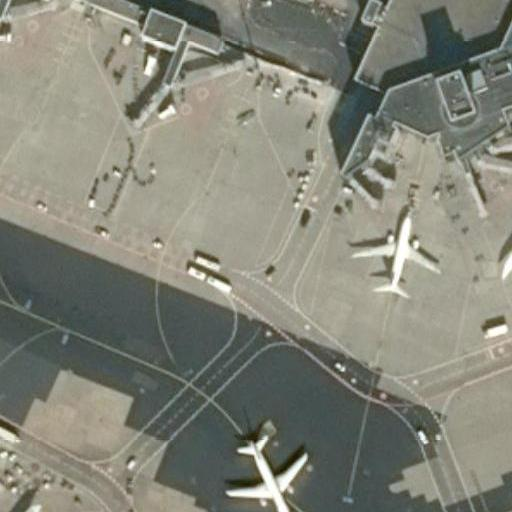Aircraft: (350, 199, 439, 299), (349, 204, 440, 301), (222, 424, 311, 512), (222, 427, 309, 512), (0, 486, 93, 512), (0, 497, 99, 512)
